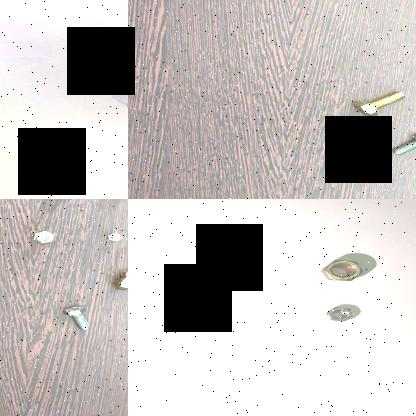Bolts: (347, 90, 411, 118), (60, 303, 98, 332), (388, 131, 416, 159), (28, 230, 63, 249), (108, 268, 128, 298), (106, 230, 126, 244)
NUTS: (318, 257, 368, 282), (324, 304, 356, 323)
